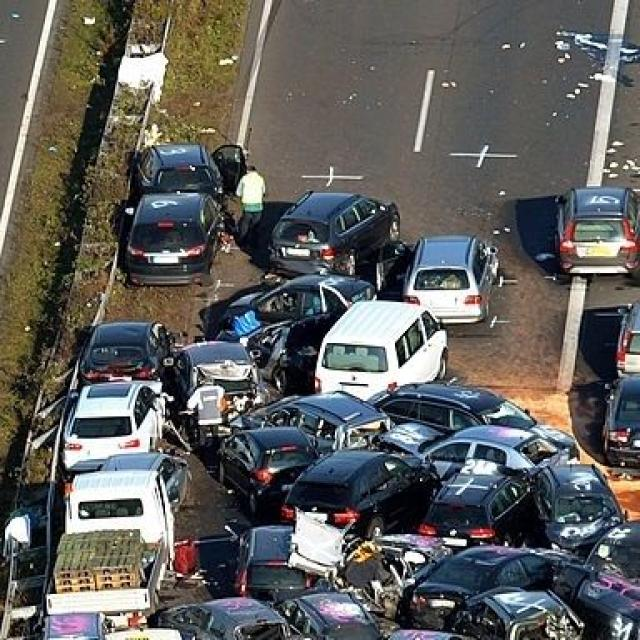traffic_incident: (164, 268, 628, 638)
